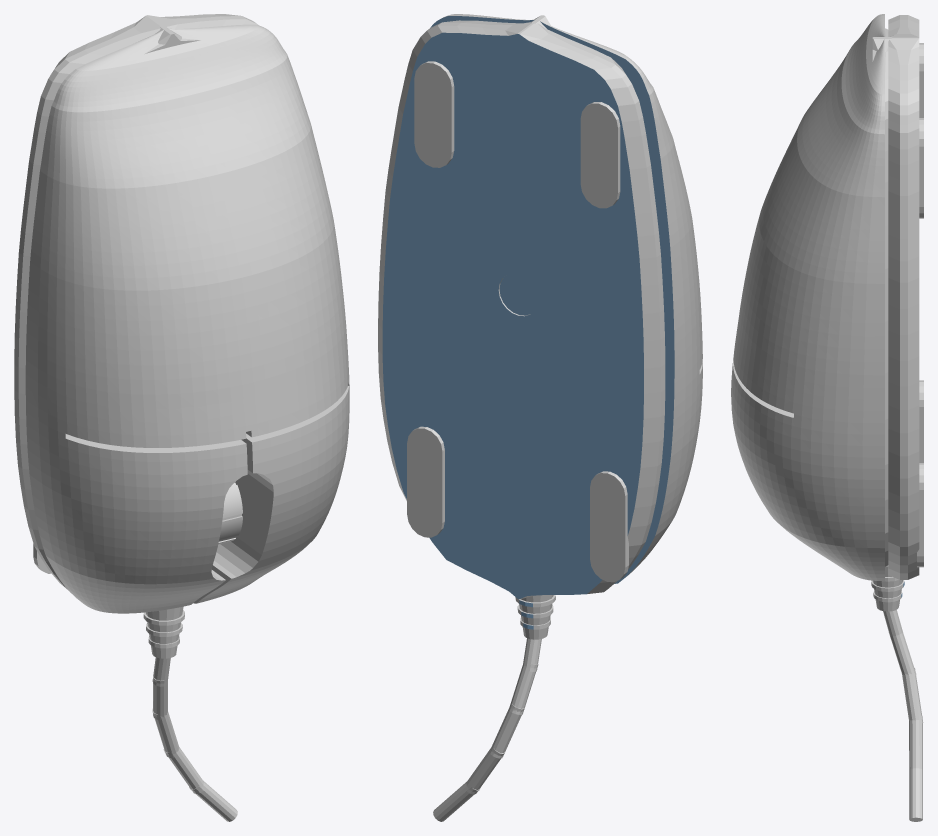
File: mouse.glb
The picture shows the model from 3 angles, left to right: view 1: azimuth 30°, elevation 25°; view 2: azimuth 150°, elevation 25°; view 3: azimuth 270°, elevation 25°; orthographic projection. The views are drawn at different scales.
Visible parts, largest first — view 1: geometry_0; view 2: geometry_0; view 3: geometry_0.
Part boxes in pixels (left/top/right/bottom): geometry_0: left=14, top=14, right=349, bottom=821; geometry_0: left=378, top=14, right=702, bottom=821; geometry_0: left=731, top=14, right=923, bottom=821.
Bounding box in the file's own units: 69.16 × 186 × 43.32.
